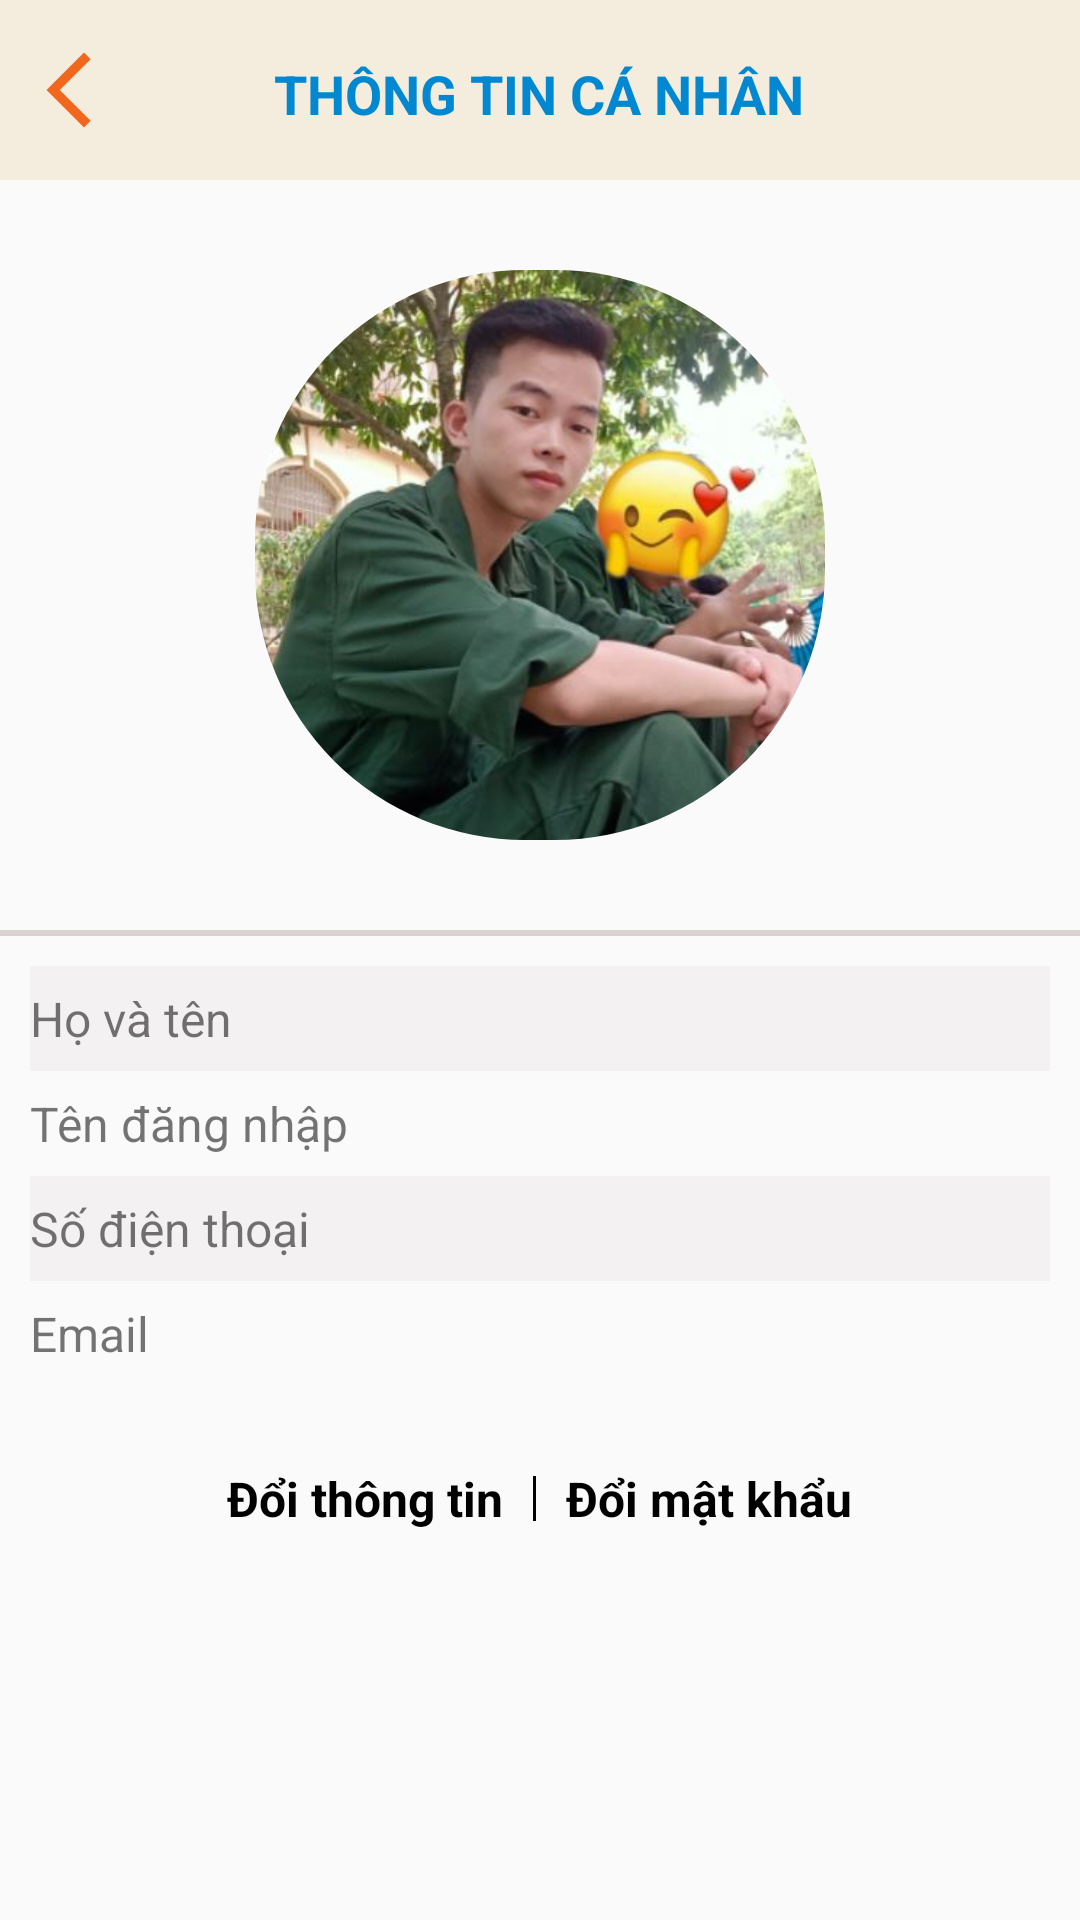

Named icons in this screenshot (1080px×1920px) and their centers, point (x, y):
arrow back: point (69, 90)
